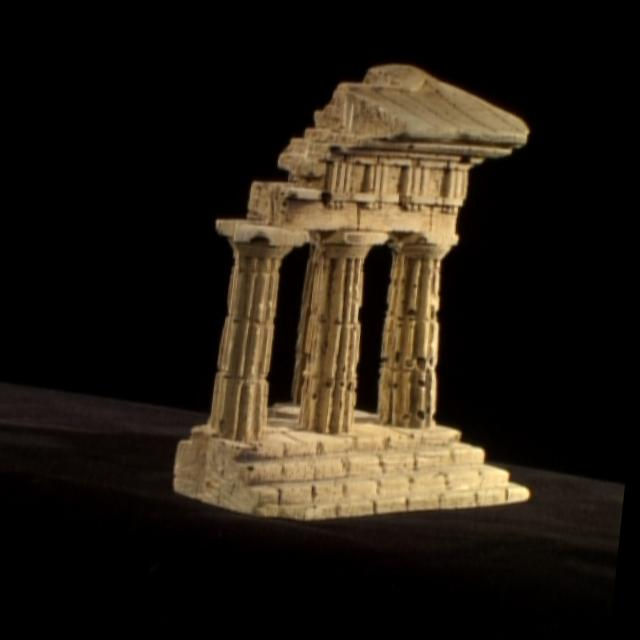Instance-Segmentation: (173, 64, 528, 519)
